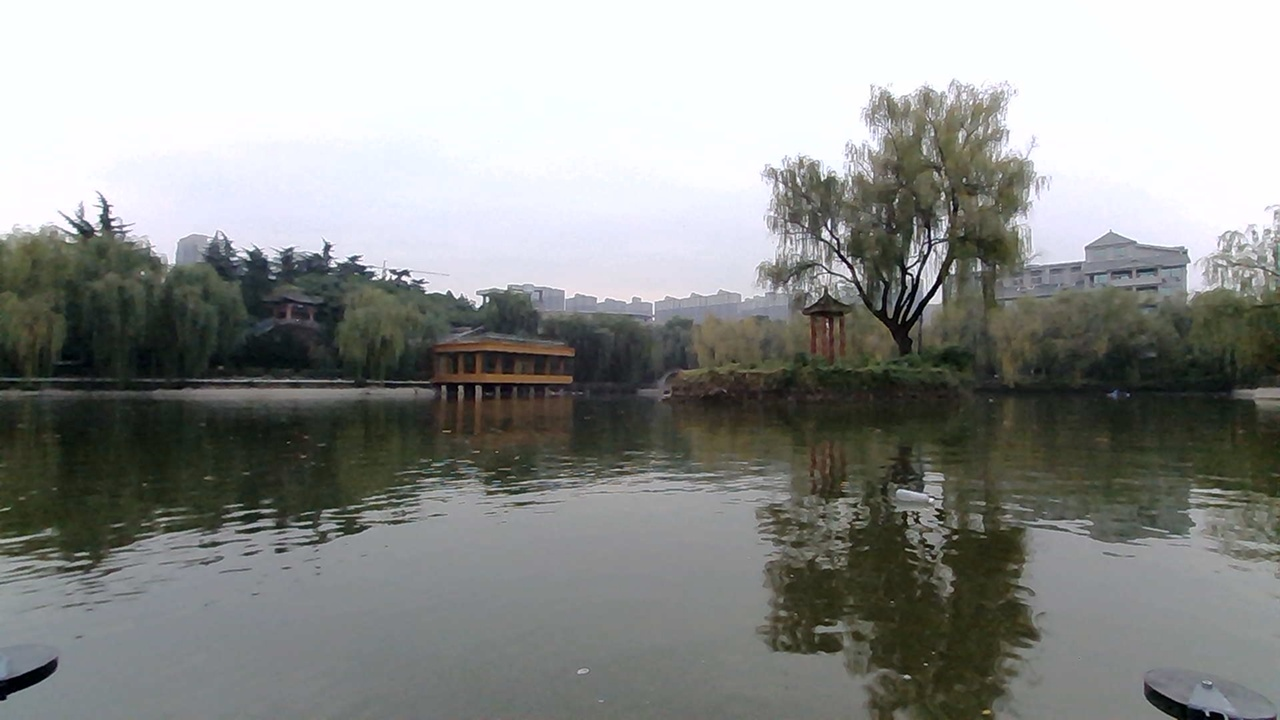bottle: (893, 480, 957, 513)
